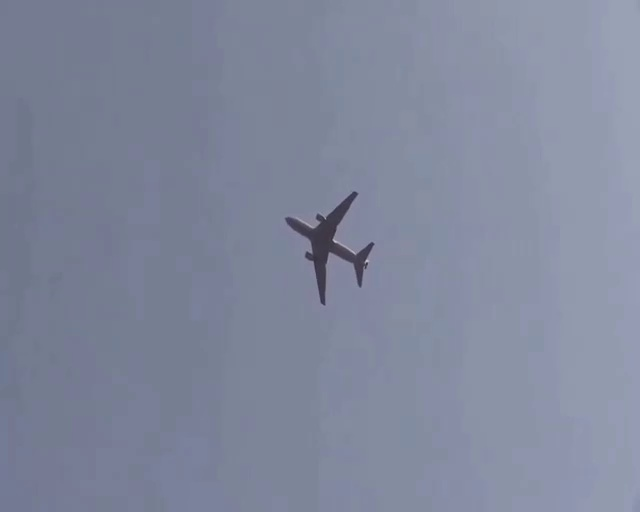AIRPLANE: (284, 190, 374, 306)
